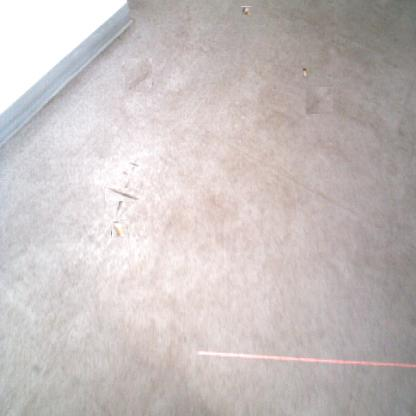dirty: (111, 221, 128, 238), (242, 6, 251, 16), (304, 68, 310, 78)
mark: (123, 59, 154, 91), (305, 86, 333, 114), (110, 182, 134, 206), (130, 160, 138, 169), (271, 83, 277, 91), (122, 170, 128, 177)
